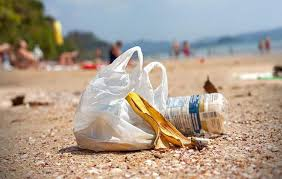plastic bag: (74, 45, 170, 153)
